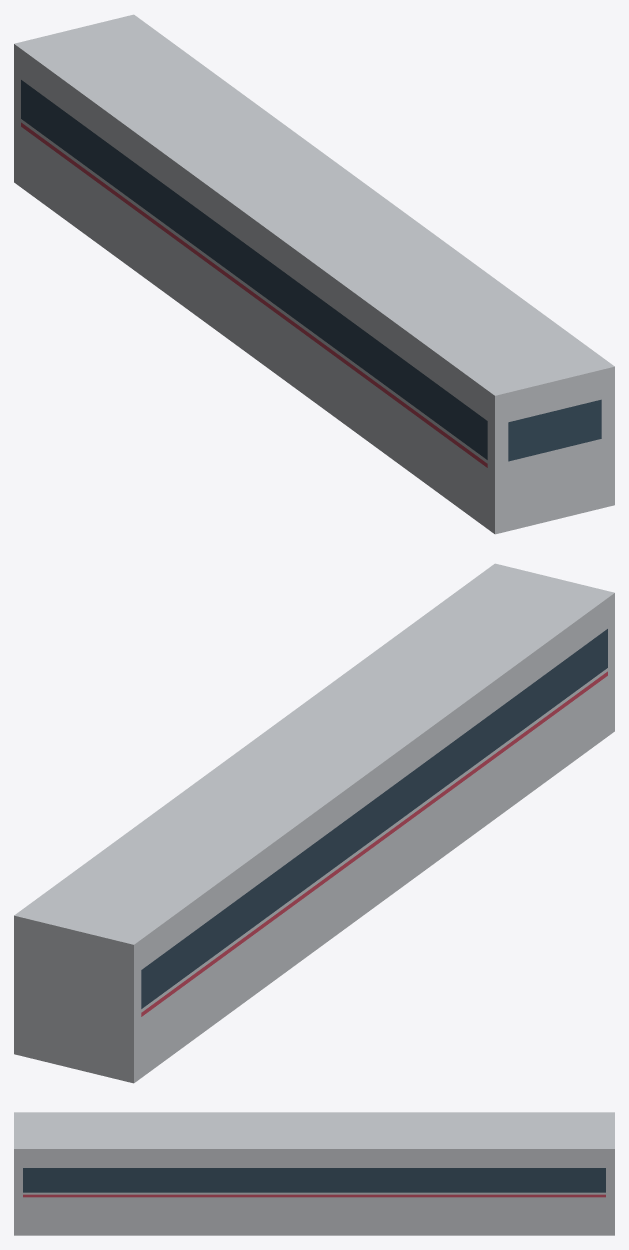
File: 388_far.fbx
3 views of the same model, one above another, from view 1: azimuth 30°, elevation 25°; view 2: azimuth 150°, elevation 25°; view 3: azimuth 270°, elevation 25° (orthographic). The views are drawn at different scales.
Visible parts, largest first — view 1: 388_far; view 2: 388_far; view 3: 388_far.
Part boxes in pixels (bbox=[...]): 388_far: bbox=[14, 14, 614, 534]; 388_far: bbox=[14, 563, 614, 1083]; 388_far: bbox=[14, 1112, 614, 1235].
Bounding box in the file's own units: 2.89 × 3.18 × 20.
